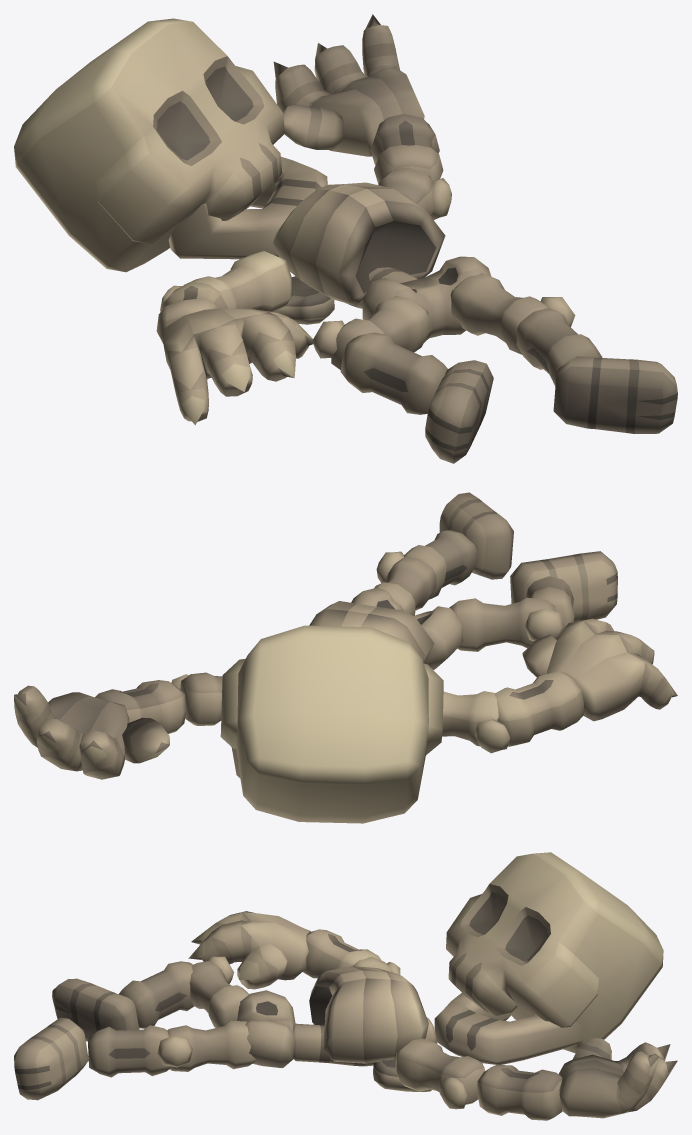
Rendered from deco_skeleton.fbx.
3 renders of one model, top to bottom at view 1: azimuth 30°, elevation 25°; view 2: azimuth 150°, elevation 25°; view 3: azimuth 270°, elevation 25°, orthographic. The views are drawn at different scales.
Parts seen in each view (by area): view 1: deco_skeleton; view 2: deco_skeleton; view 3: deco_skeleton.
Boxes of the visible parts, <box> form: deco_skeleton: <box>14,14,677,463</box>; deco_skeleton: <box>14,492,677,823</box>; deco_skeleton: <box>14,852,677,1120</box>.
Size of the model in its own units: 126 by 56.51 by 192.
Materials: 1 (1 with a texture image).
